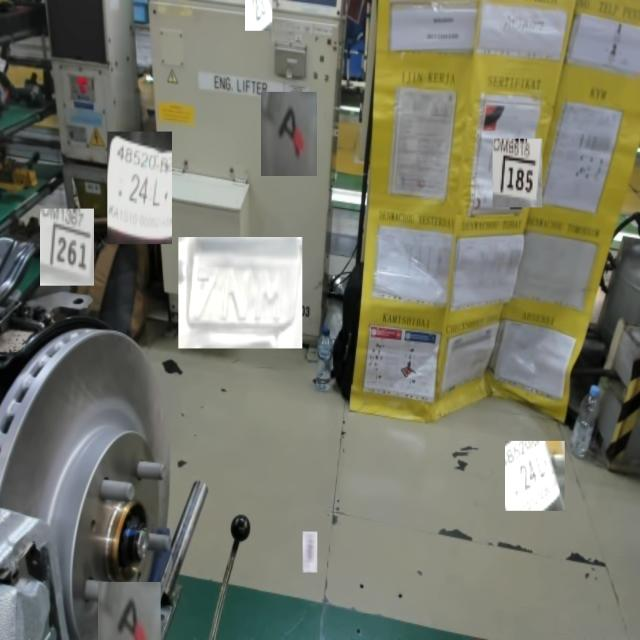Absorber LH-24: (517, 451, 547, 500)
Compressor-A: (274, 103, 308, 163), (112, 584, 146, 640)
Disc-SV: (41, 398, 165, 578)
Engine Assy-185: (500, 150, 535, 198)
Engine Assy-261: (47, 219, 91, 280)
Transaxele-7NM: (193, 266, 284, 328)
